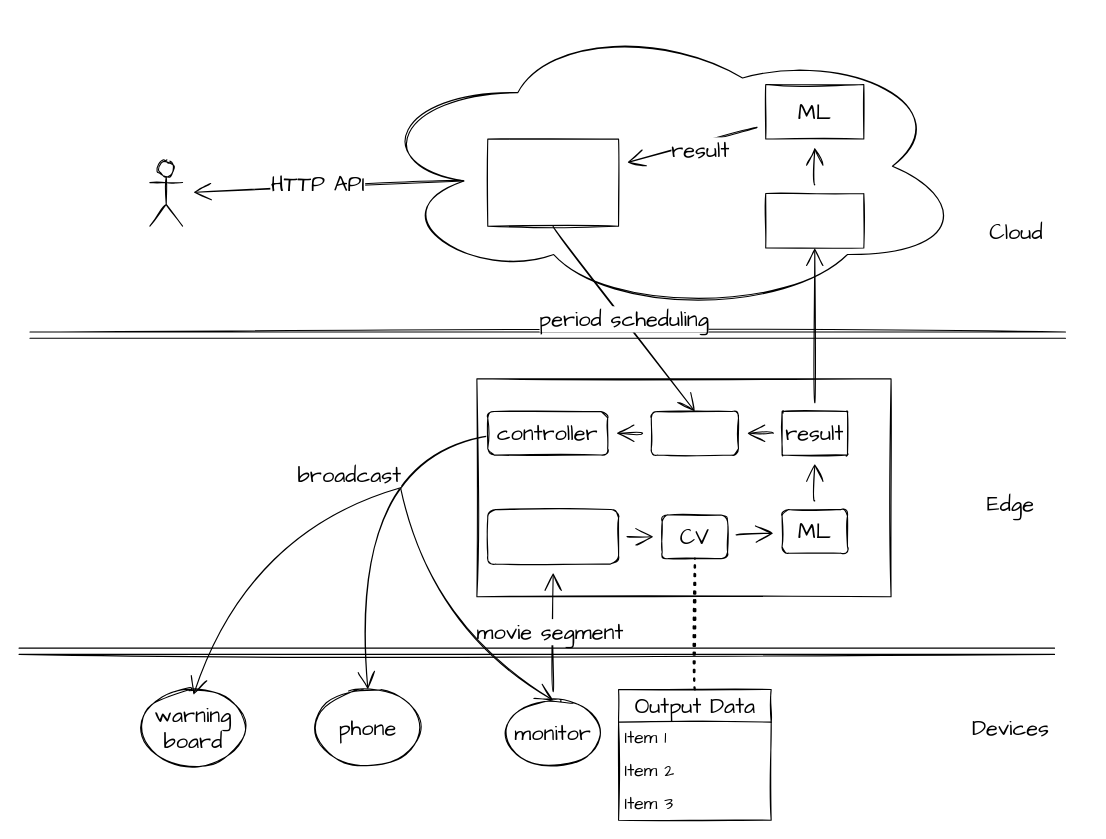
Image size: 1106x839. Some labels were removed from this diagram. Each missing label, with the centre of its shape:
collector: (553,536)
database: (814,220)
Dispatcher: (553,182)
listener: (694,432)
Manager: (166,193)
